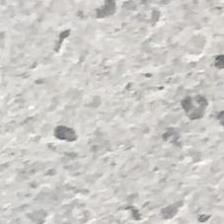Non_Crack: (34, 66, 205, 207)
